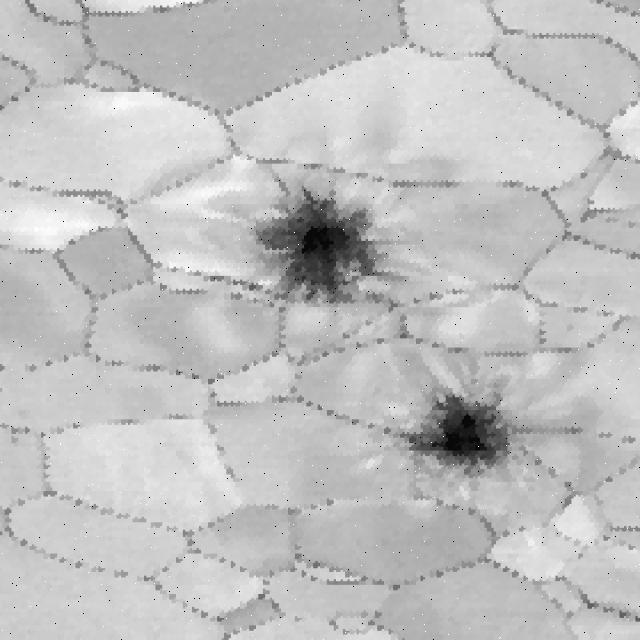good_void: (353, 373, 527, 483), (247, 182, 387, 315)
